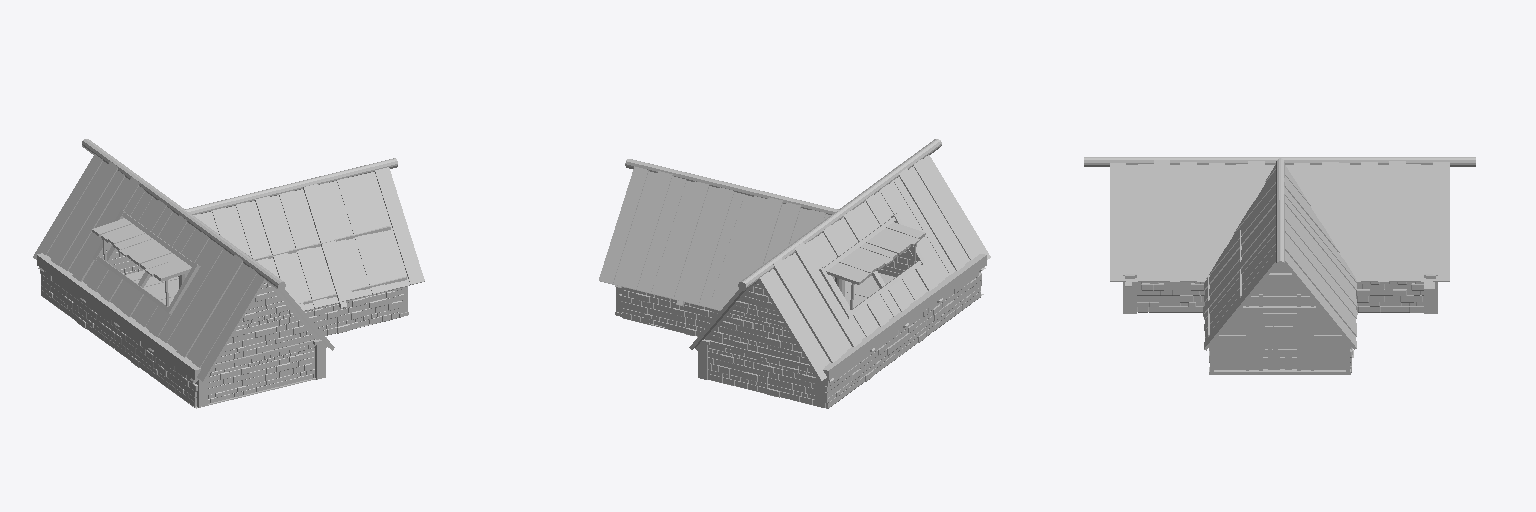
File: lowpoly_viking_house_006.obj
3 renders of one model, left to right at view 1: azimuth 30°, elevation 25°; view 2: azimuth 150°, elevation 25°; view 3: azimuth 270°, elevation 25°, orthographic.
Parts seen in each view (by area): view 1: Wall.143, Cube.501, Cube.801, Cube.382, Cube.373, Cube.389, Cube.378, Cube.532, Cube.377, Cube.393, Cube.2847, Cube.659 (+18 smaller); view 2: Wall.143, Cube.501, Cube.801, Cube.376, Cube.384, Cube.372, Cube.380, Cube.379, Cube.392, Cube.397, Cube.532, Cube.401 (+19 smaller); view 3: Wall.143, Cube.801, Cube.414, Cube.670, Cube.419, Cube.396, Cube.511, Cube.665, Cube.658, Cube.662, Cube.400, Cube.666 (+24 smaller).
Part boxes in pixels (x1,y1,x2,y2): Wall.143: (40,247,403,407); Cube.501: (37,253,200,380); Cube.801: (82,139,285,290); Cube.382: (303,184,353,302); Cube.373: (375,167,424,284); Cube.389: (279,191,328,308); Cube.378: (337,177,386,294); Cube.532: (184,158,397,214); Cube.377: (351,174,400,290); Cube.393: (255,196,305,310); Cube.2847: (93,209,200,313); Cube.659: (197,273,265,381); Wall.143: (619,251,981,408); Cube.501: (823,254,986,380); Cube.801: (738,139,941,290); Cube.376: (622,171,672,289); Cube.384: (659,181,708,299); Cube.372: (599,166,648,284); Cube.380: (684,187,733,304); Cube.379: (637,176,686,293); Cube.392: (718,196,767,310); Cube.397: (759,272,826,381); Cube.532: (625,159,839,214); Cube.401: (773,258,840,362); Wall.143: (1137,282,1423,372); Cube.801: (1084,157,1475,166); Cube.414: (1389,161,1405,281); Cube.670: (1180,162,1196,281); Cube.419: (1361,162,1377,281); Cube.396: (1433,162,1449,281); Cube.511: (1263,311,1296,369); Cube.665: (1154,160,1169,281); Cube.658: (1110,163,1125,281); Cube.662: (1138,164,1153,281); Cube.400: (1404,164,1420,281); Cube.666: (1209,163,1224,273).
Size of the model in its own units: 5.72 by 2.46 by 6.92.